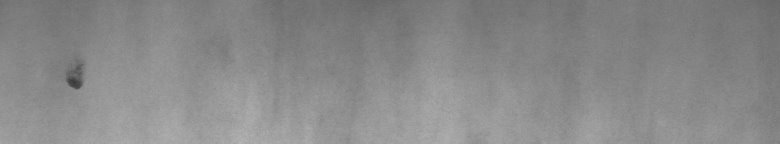fi: (63, 63, 88, 96)
